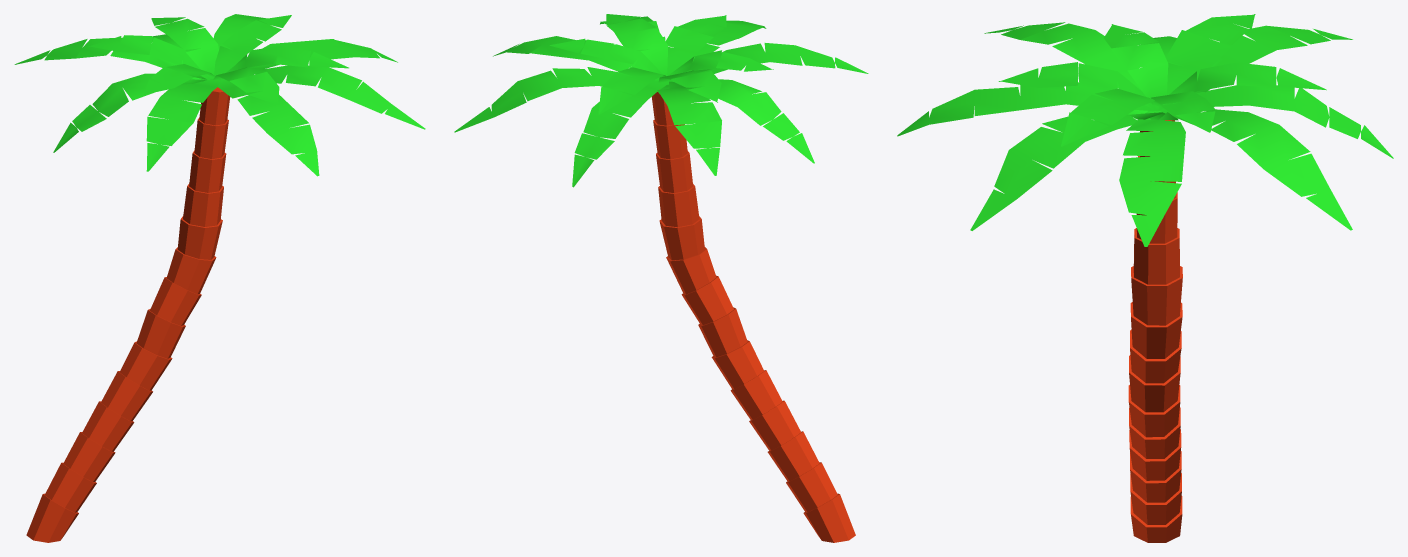
The model's file is tree.glb.
3 views of the same model, side by side, from view 1: azimuth 30°, elevation 25°; view 2: azimuth 150°, elevation 25°; view 3: azimuth 270°, elevation 25° (orthographic). The views are drawn at different scales.
Parts seen in each view (by area): view 1: Plane, Cube; view 2: Plane, Cube; view 3: Plane, Cube.
Boxes of the visible parts, x1,y1,x2,y2 form: Plane: (14,14,425,176); Cube: (26,87,230,542); Plane: (454,14,868,187); Cube: (651,91,855,542); Plane: (897,14,1393,246); Cube: (1128,120,1182,542).
Size of the model in its own units: 17.24 by 20.24 by 15.8.
